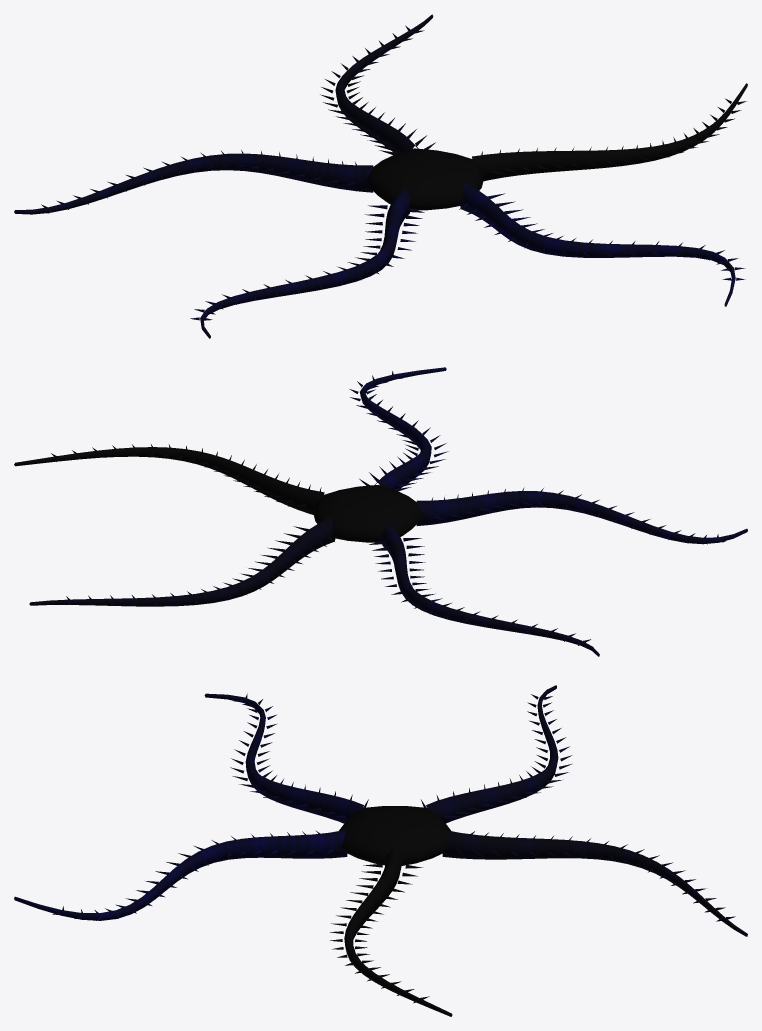
File: brittle_star.glb
The picture shows the model from 3 angles, top to bottom: view 1: azimuth 30°, elevation 25°; view 2: azimuth 150°, elevation 25°; view 3: azimuth 270°, elevation 25°; orthographic projection. The views are drawn at different scales.
Parts seen in each view (by area): view 1: Arms, Body; view 2: Arms, Body; view 3: Arms, Body.
Part boxes in pixels (x1=…): Arms: x1=14, y1=14, x2=747, y2=338; Body: x1=365, y1=148, x2=484, y2=210; Arms: x1=14, y1=367, x2=747, y2=656; Body: x1=313, y1=485, x2=424, y2=542; Arms: x1=14, y1=685, x2=747, y2=1016; Body: x1=339, y1=806, x2=450, y2=865.
Bounding box in the file's own units: 0.974 × 0.048 × 0.9183.
1 material, 1 textured.
